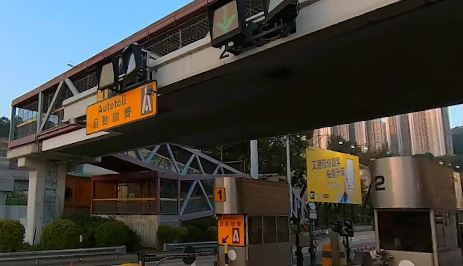Autotoll: (83, 81, 161, 138), (217, 214, 246, 245)
